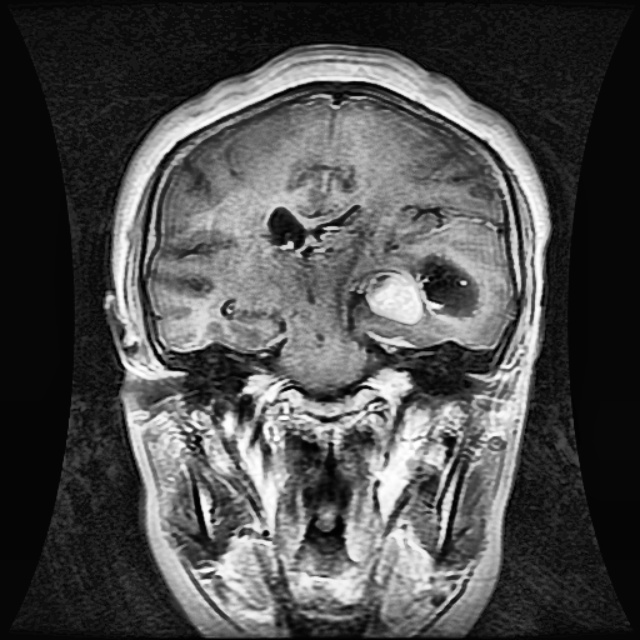Glioma: (364, 263, 480, 320)
